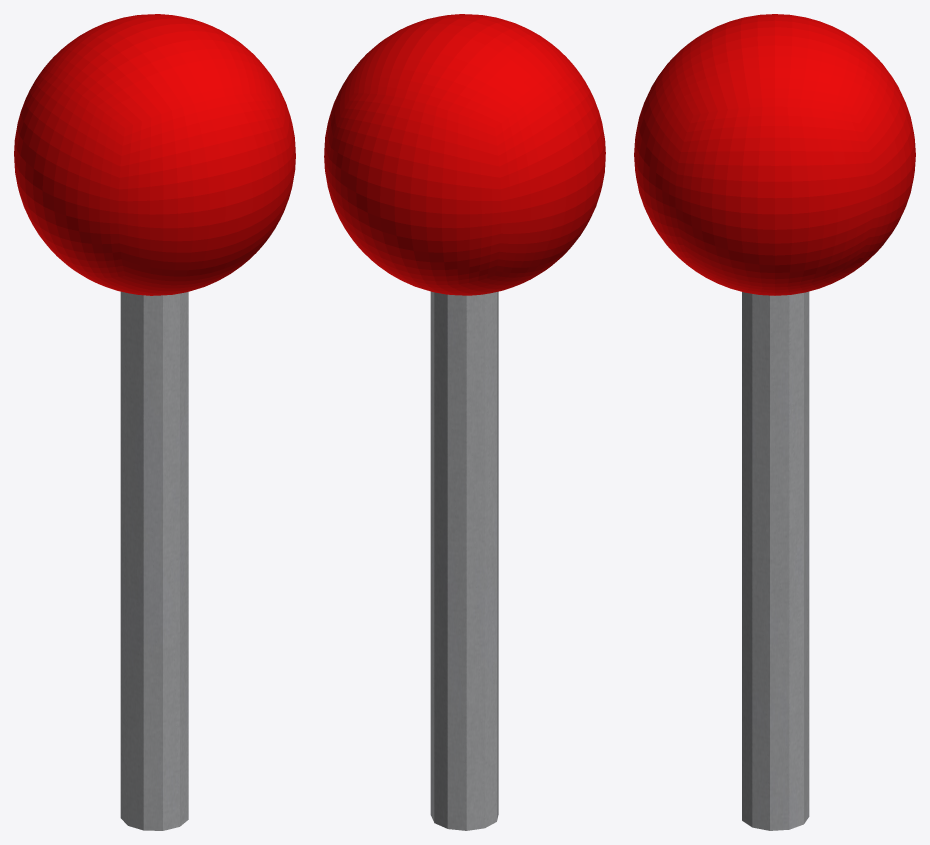
File: wasantenna-01.glb
3 renders of one model, left to right at view 1: azimuth 30°, elevation 25°; view 2: azimuth 150°, elevation 25°; view 3: azimuth 270°, elevation 25°, orthographic.
Parts seen in each view (by area): view 1: Cube, Cylinder; view 2: Cube, Cylinder; view 3: Cube, Cylinder.
Part boxes in pixels (x1,y1,x2,y2): Cube: [14, 14, 295, 295]; Cylinder: [120, 291, 188, 830]; Cube: [324, 14, 605, 295]; Cylinder: [430, 291, 498, 830]; Cube: [634, 14, 915, 295]; Cylinder: [742, 291, 809, 830].
Size of the model in its own units: 2.57 by 7.93 by 2.57.
2 materials, 1 textured.
